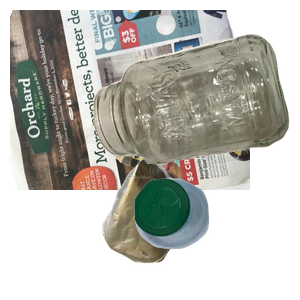glass: (91, 32, 300, 189)
paper: (10, 10, 250, 190)
plastic: (132, 176, 300, 300)
trash: (99, 155, 268, 300)
